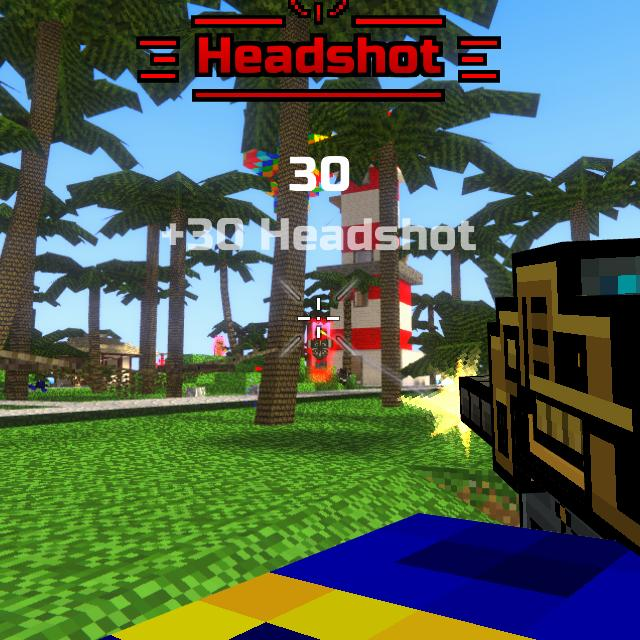Enemy: (307, 328, 333, 370)
